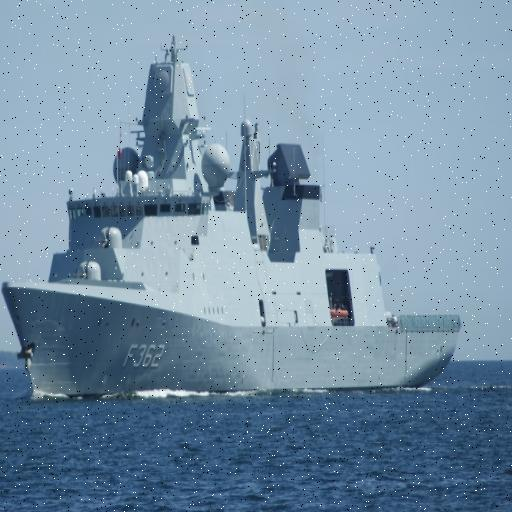Fragata: (1, 41, 465, 410)
